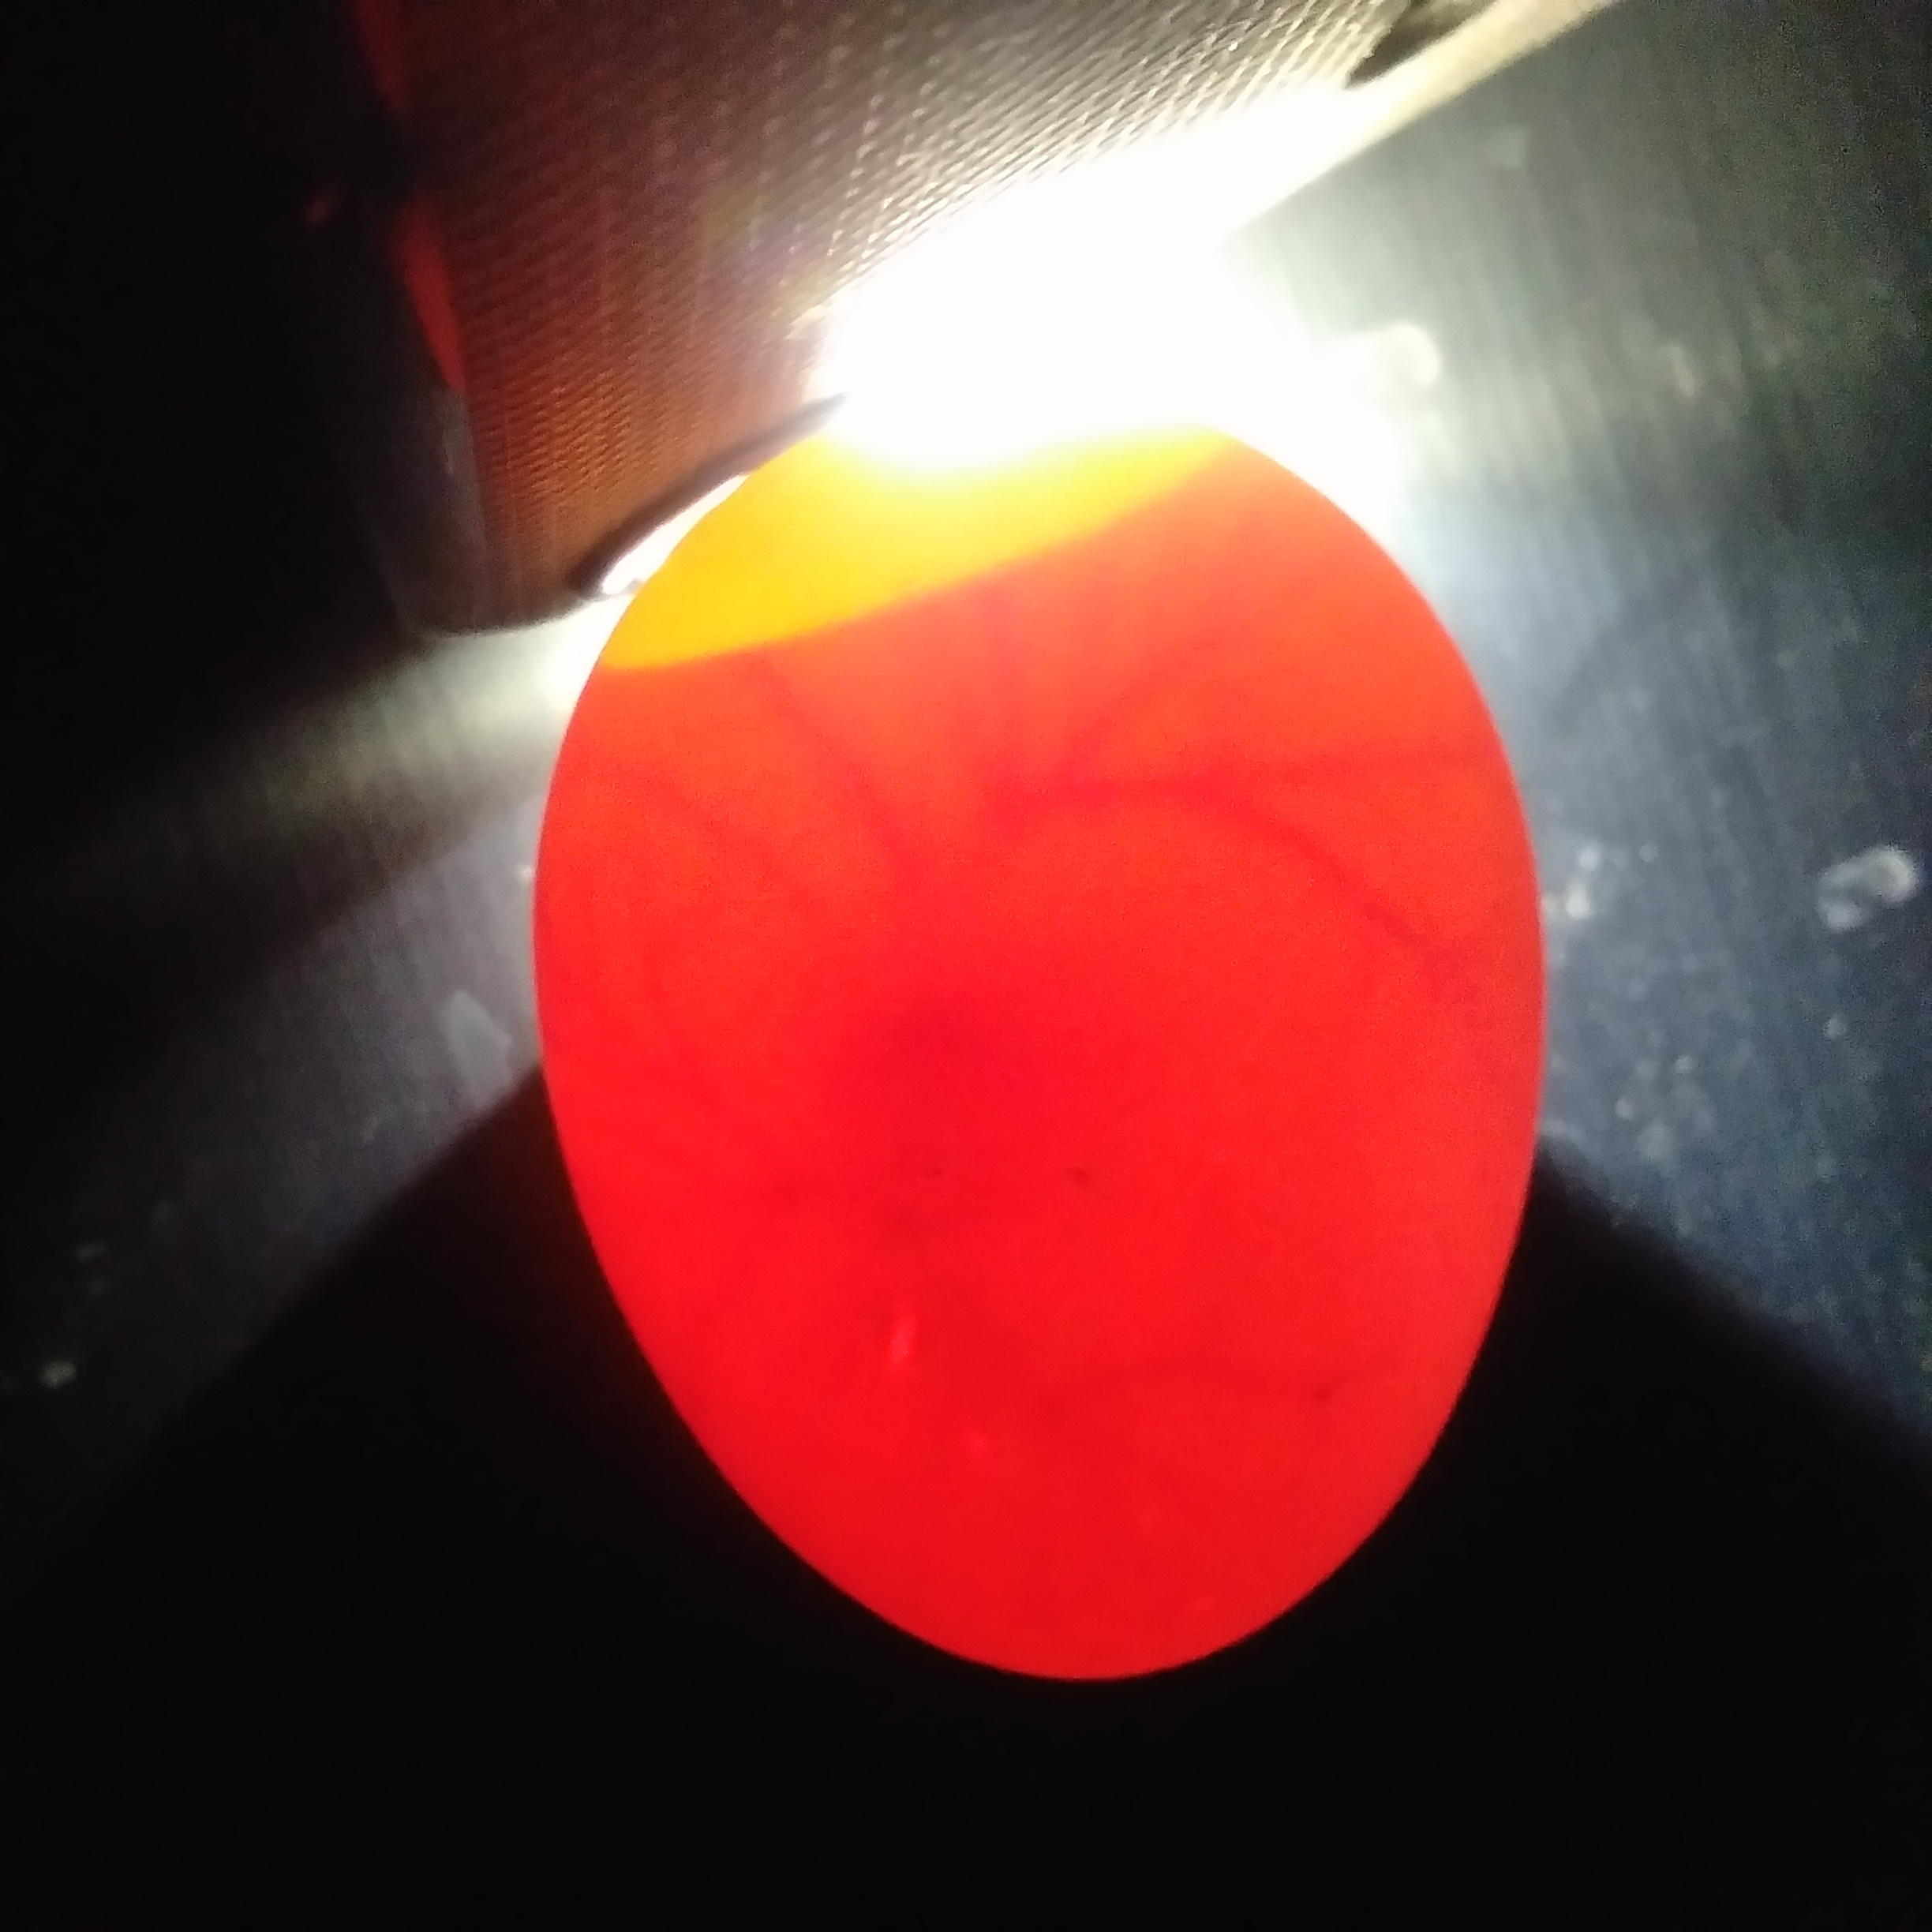bloodcell: (632, 717, 1348, 966), (771, 1311, 1254, 1527)
embryo: (853, 1016, 1132, 1235)
